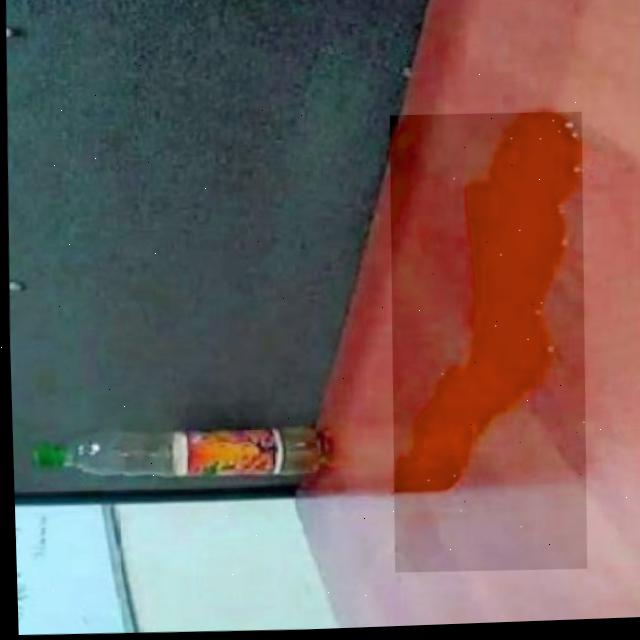spillage: (391, 116, 580, 573)
